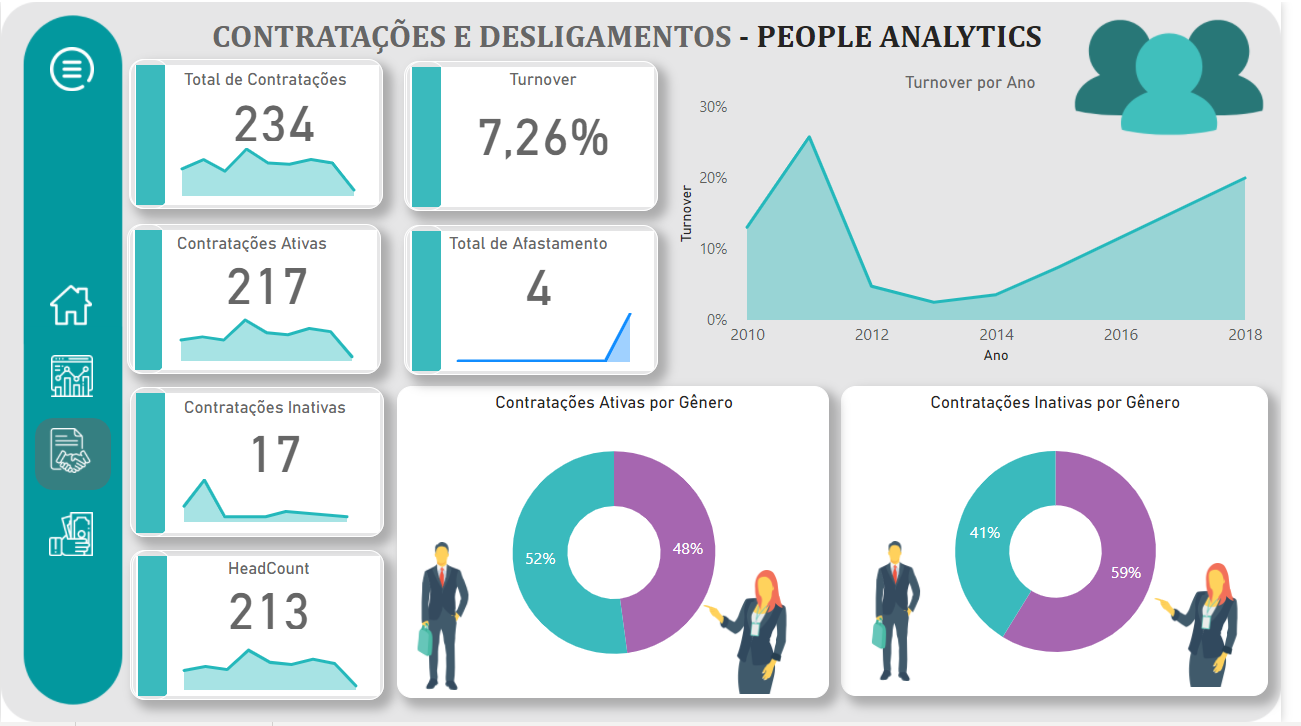

Layout of this report page (visuals, bound fields, positions):
{"tool":"powerbi","page":{"name":"Contratações e Desligamentos","canvas":[1280,720],"ordinal":2},"visuals":[{"type":"image","box":[31.7,39.9,78.5,53.7],"z":0},{"type":"image","box":[27.5,276.6,82.6,52.3],"z":1000},{"type":"shape","box":[34.4,415.7,75.7,71.6],"z":2000},{"type":"image","box":[42.7,348.2,55.1,52.3],"z":3000},{"type":"image","box":[41.3,421.2,56.4,55.1],"z":4000},{"type":"image","box":[38.5,505.1,61.9,53.7],"z":5000},{"type":"textbox","box":[206.5,9.6,865.7,60.6],"z":6000},{"type":"shape","box":[127.7,57.1,253.6,149.5],"z":7000},{"type":"shape","box":[129.3,57.1,38.6,149.5],"z":8000},{"type":"areaChart","fields":{"Category":["BaseFuncionarios.Data de Contratacao.Variation.Hierarquia de datas.Ano","BaseFuncionarios.Data de Contratacao.Variation.Hierarquia de datas.Trimestre","BaseFuncionarios.Data de Contratacao.Variation.Hierarquia de datas.Mês","BaseFuncionarios.Data de Contratacao.Variation.Hierarquia de datas.Dia"],"Y":["BaseFuncionarios.Total contratacoes"]},"box":[166.3,132.7,201.6,67.2],"z":9000},{"type":"card","title":"Total de Contratações","fields":{"Values":["BaseFuncionarios.Total contratacoes"]},"box":[178.1,67.2,189.8,77.3],"z":10000},{"type":"shape","box":[126,221.7,253.6,149.5],"z":11000},{"type":"shape","box":[127.7,221.7,37,149.5],"z":12000},{"type":"areaChart","fields":{"Category":["BaseFuncionarios.Data de Contratacao.Variation.Hierarquia de datas.Ano","BaseFuncionarios.Data de Contratacao.Variation.Hierarquia de datas.Trimestre","BaseFuncionarios.Data de Contratacao.Variation.Hierarquia de datas.Mês","BaseFuncionarios.Data de Contratacao.Variation.Hierarquia de datas.Dia"],"Y":["BaseFuncionarios.Ativos"]},"box":[165.2,302.8,200.9,61.9],"z":13000},{"type":"card","title":"Contratações Ativas","fields":{"Values":["BaseFuncionarios.Ativos"]},"box":[170.7,231.2,189.9,75.7],"z":14000},{"type":"shape","box":[129.3,384.7,253.6,149.5],"z":15000},{"type":"areaChart","fields":{"Category":["BaseFuncionarios.Data de Contratacao.Variation.Hierarquia de datas.Ano","BaseFuncionarios.Data de Contratacao.Variation.Hierarquia de datas.Trimestre","BaseFuncionarios.Data de Contratacao.Variation.Hierarquia de datas.Mês","BaseFuncionarios.Data de Contratacao.Variation.Hierarquia de datas.Dia"],"Y":["BaseFuncionarios.Demissoes"]},"box":[168,463.6,193.2,62.2],"z":16000},{"type":"card","title":"Contratações Inativas","fields":{"Values":["BaseFuncionarios.Demissoes"]},"box":[177.5,395,189.9,81.2],"z":17000},{"type":"shape","box":[129.3,547.6,253.6,149.5],"z":18000},{"type":"shape","box":[129.3,384.7,38.6,149.5],"z":19000},{"type":"shape","box":[131,547.6,38.6,149.5],"z":20000},{"type":"card","title":"HeadCount","fields":{"Values":["BaseFuncionarios.HeadCount"]},"box":[173,556,189.8,75.6],"z":21000},{"type":"areaChart","fields":{"Category":["BaseFuncionarios.Data de Contratacao.Variation.Hierarquia de datas.Ano","BaseFuncionarios.Data de Contratacao.Variation.Hierarquia de datas.Trimestre","BaseFuncionarios.Data de Contratacao.Variation.Hierarquia de datas.Mês","BaseFuncionarios.Data de Contratacao.Variation.Hierarquia de datas.Dia"],"Y":["BaseFuncionarios.HeadCount"]},"box":[167.9,633.1,202.3,60.6],"z":22000},{"type":"donutChart","title":"Contratações Inativas por Gênero","fields":{"Category":["BaseFuncionarios.Genero"],"Y":["BaseFuncionarios.Demissoes"]},"box":[839.6,384,426.7,309.7],"z":23000},{"type":"donutChart","title":"Contratações Ativas por Gênero","fields":{"Category":["BaseFuncionarios.Genero"],"Y":["BaseFuncionarios.Ativos"]},"box":[396.4,384,432.2,312.4],"z":24000},{"type":"image","box":[1123.1,556,143.1,133.5],"z":25000},{"type":"image","box":[806.5,534,174.8,150],"z":26000},{"type":"image","box":[353.7,535.4,174.8,158.3],"z":27000},{"type":"shape","box":[403.3,58.9,253.6,149.5],"z":28000},{"type":"shape","box":[405,58.9,38.6,149.5],"z":29000},{"type":"card","title":"Turnover","fields":{"Values":["BaseFuncionarios.Turnover"]},"box":[447.3,67.4,189.9,103.2],"z":30000},{"type":"shape","box":[403.3,222.6,253.6,149.5],"z":31000},{"type":"shape","box":[405,222.6,38.6,149.5],"z":32000},{"type":"areaChart","fields":{"Category":["BaseFuncionarios.Data de Contratacao.Variation.Hierarquia de datas.Ano","BaseFuncionarios.Data de Contratacao.Variation.Hierarquia de datas.Trimestre","BaseFuncionarios.Data de Contratacao.Variation.Hierarquia de datas.Mês","BaseFuncionarios.Data de Contratacao.Variation.Hierarquia de datas.Dia"],"Y":["BaseFuncionarios.Afastados"]},"box":[441.9,298.2,201.6,67.2],"z":33000},{"type":"card","title":"Total de Afastamento","fields":{"Values":["BaseFuncionarios.Afastados"]},"box":[443.2,231.2,189.9,77.1],"z":34000},{"type":"stackedAreaChart","fields":{"Y":["BaseFuncionarios.Turnover"],"Category":["BaseFuncionarios.Data de Contratacao.Variation.Hierarquia de datas.Ano"]},"box":[671.7,70.2,594.6,295.9],"z":35000},{"type":"image","box":[671.7,562.9,143.1,133.5],"z":36000}]}

Visuals, with their boxes in screenshot pixels (x1, y1, x2, y2), scaled from the page's 1280x720 canvas onto the 1301x726 screenshot:
image: x1=32, y1=40, x2=112, y2=94
image: x1=28, y1=279, x2=112, y2=332
shape: x1=35, y1=419, x2=112, y2=491
image: x1=43, y1=351, x2=99, y2=404
image: x1=42, y1=425, x2=99, y2=480
image: x1=39, y1=509, x2=102, y2=563
textbox: x1=210, y1=10, x2=1090, y2=71
shape: x1=130, y1=58, x2=388, y2=208
shape: x1=131, y1=58, x2=171, y2=208
areaChart - BaseFuncionarios.Data de Contratacao.Variation.Hierarquia de datas.Ano x BaseFuncionarios.Data de Contratacao.Variation.Hierarquia de datas.Trimestre: x1=169, y1=134, x2=374, y2=202
"Total de Contratações" card: x1=181, y1=68, x2=374, y2=146
shape: x1=128, y1=224, x2=386, y2=374
shape: x1=130, y1=224, x2=167, y2=374
areaChart - BaseFuncionarios.Data de Contratacao.Variation.Hierarquia de datas.Ano x BaseFuncionarios.Data de Contratacao.Variation.Hierarquia de datas.Trimestre: x1=168, y1=305, x2=372, y2=368
"Contratações Ativas" card: x1=174, y1=233, x2=367, y2=309
shape: x1=131, y1=388, x2=389, y2=539
areaChart - BaseFuncionarios.Data de Contratacao.Variation.Hierarquia de datas.Ano x BaseFuncionarios.Data de Contratacao.Variation.Hierarquia de datas.Trimestre: x1=171, y1=467, x2=367, y2=530
"Contratações Inativas" card: x1=180, y1=398, x2=373, y2=480
shape: x1=131, y1=552, x2=389, y2=703
shape: x1=131, y1=388, x2=171, y2=539
shape: x1=133, y1=552, x2=172, y2=703
"HeadCount" card: x1=176, y1=561, x2=369, y2=637
areaChart - BaseFuncionarios.Data de Contratacao.Variation.Hierarquia de datas.Ano x BaseFuncionarios.Data de Contratacao.Variation.Hierarquia de datas.Trimestre: x1=171, y1=638, x2=376, y2=699
"Contratações Inativas por Gênero" donutChart: x1=853, y1=387, x2=1287, y2=699
"Contratações Ativas por Gênero" donutChart: x1=403, y1=387, x2=842, y2=702
image: x1=1142, y1=561, x2=1287, y2=695
image: x1=820, y1=538, x2=997, y2=690
image: x1=360, y1=540, x2=537, y2=699
shape: x1=410, y1=59, x2=668, y2=210
shape: x1=412, y1=59, x2=451, y2=210
"Turnover" card: x1=455, y1=68, x2=648, y2=172
shape: x1=410, y1=224, x2=668, y2=375
shape: x1=412, y1=224, x2=451, y2=375
areaChart - BaseFuncionarios.Data de Contratacao.Variation.Hierarquia de datas.Ano x BaseFuncionarios.Data de Contratacao.Variation.Hierarquia de datas.Trimestre: x1=449, y1=301, x2=654, y2=368
"Total de Afastamento" card: x1=450, y1=233, x2=643, y2=311
stackedAreaChart - BaseFuncionarios.Turnover x BaseFuncionarios.Data de Contratacao.Variation.Hierarquia de datas.Ano: x1=683, y1=71, x2=1287, y2=369
image: x1=683, y1=568, x2=828, y2=702
